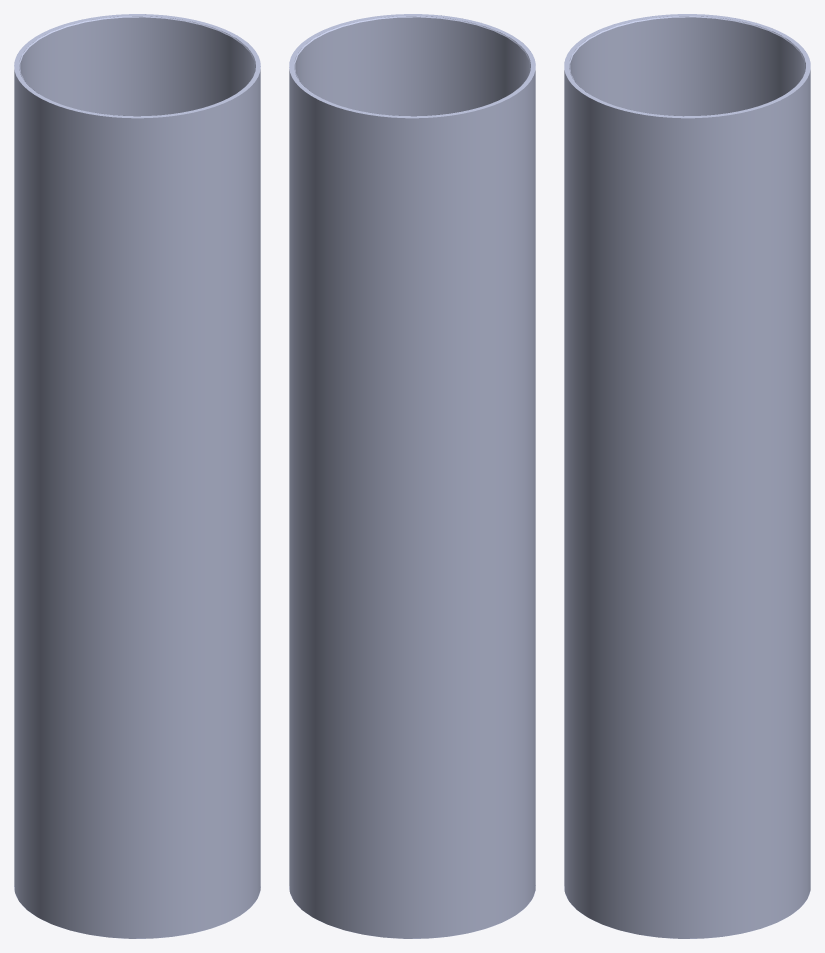
The picture shows the model from 3 angles, left to right: view 1: azimuth 30°, elevation 25°; view 2: azimuth 150°, elevation 25°; view 3: azimuth 270°, elevation 25°; orthographic projection.
Parts seen in each view (by area): view 1: FACE (×4); view 2: FACE (×5); view 3: FACE (×6).
Boxes of the visible parts, x1=… form: FACE (×4): x1=14, y1=14, x2=260, y2=938; FACE (×5): x1=289, y1=14, x2=535, y2=938; FACE (×6): x1=564, y1=14, x2=810, y2=938.
Bounding box in the file's own units: 0.1269 × 0.466 × 0.1269.
